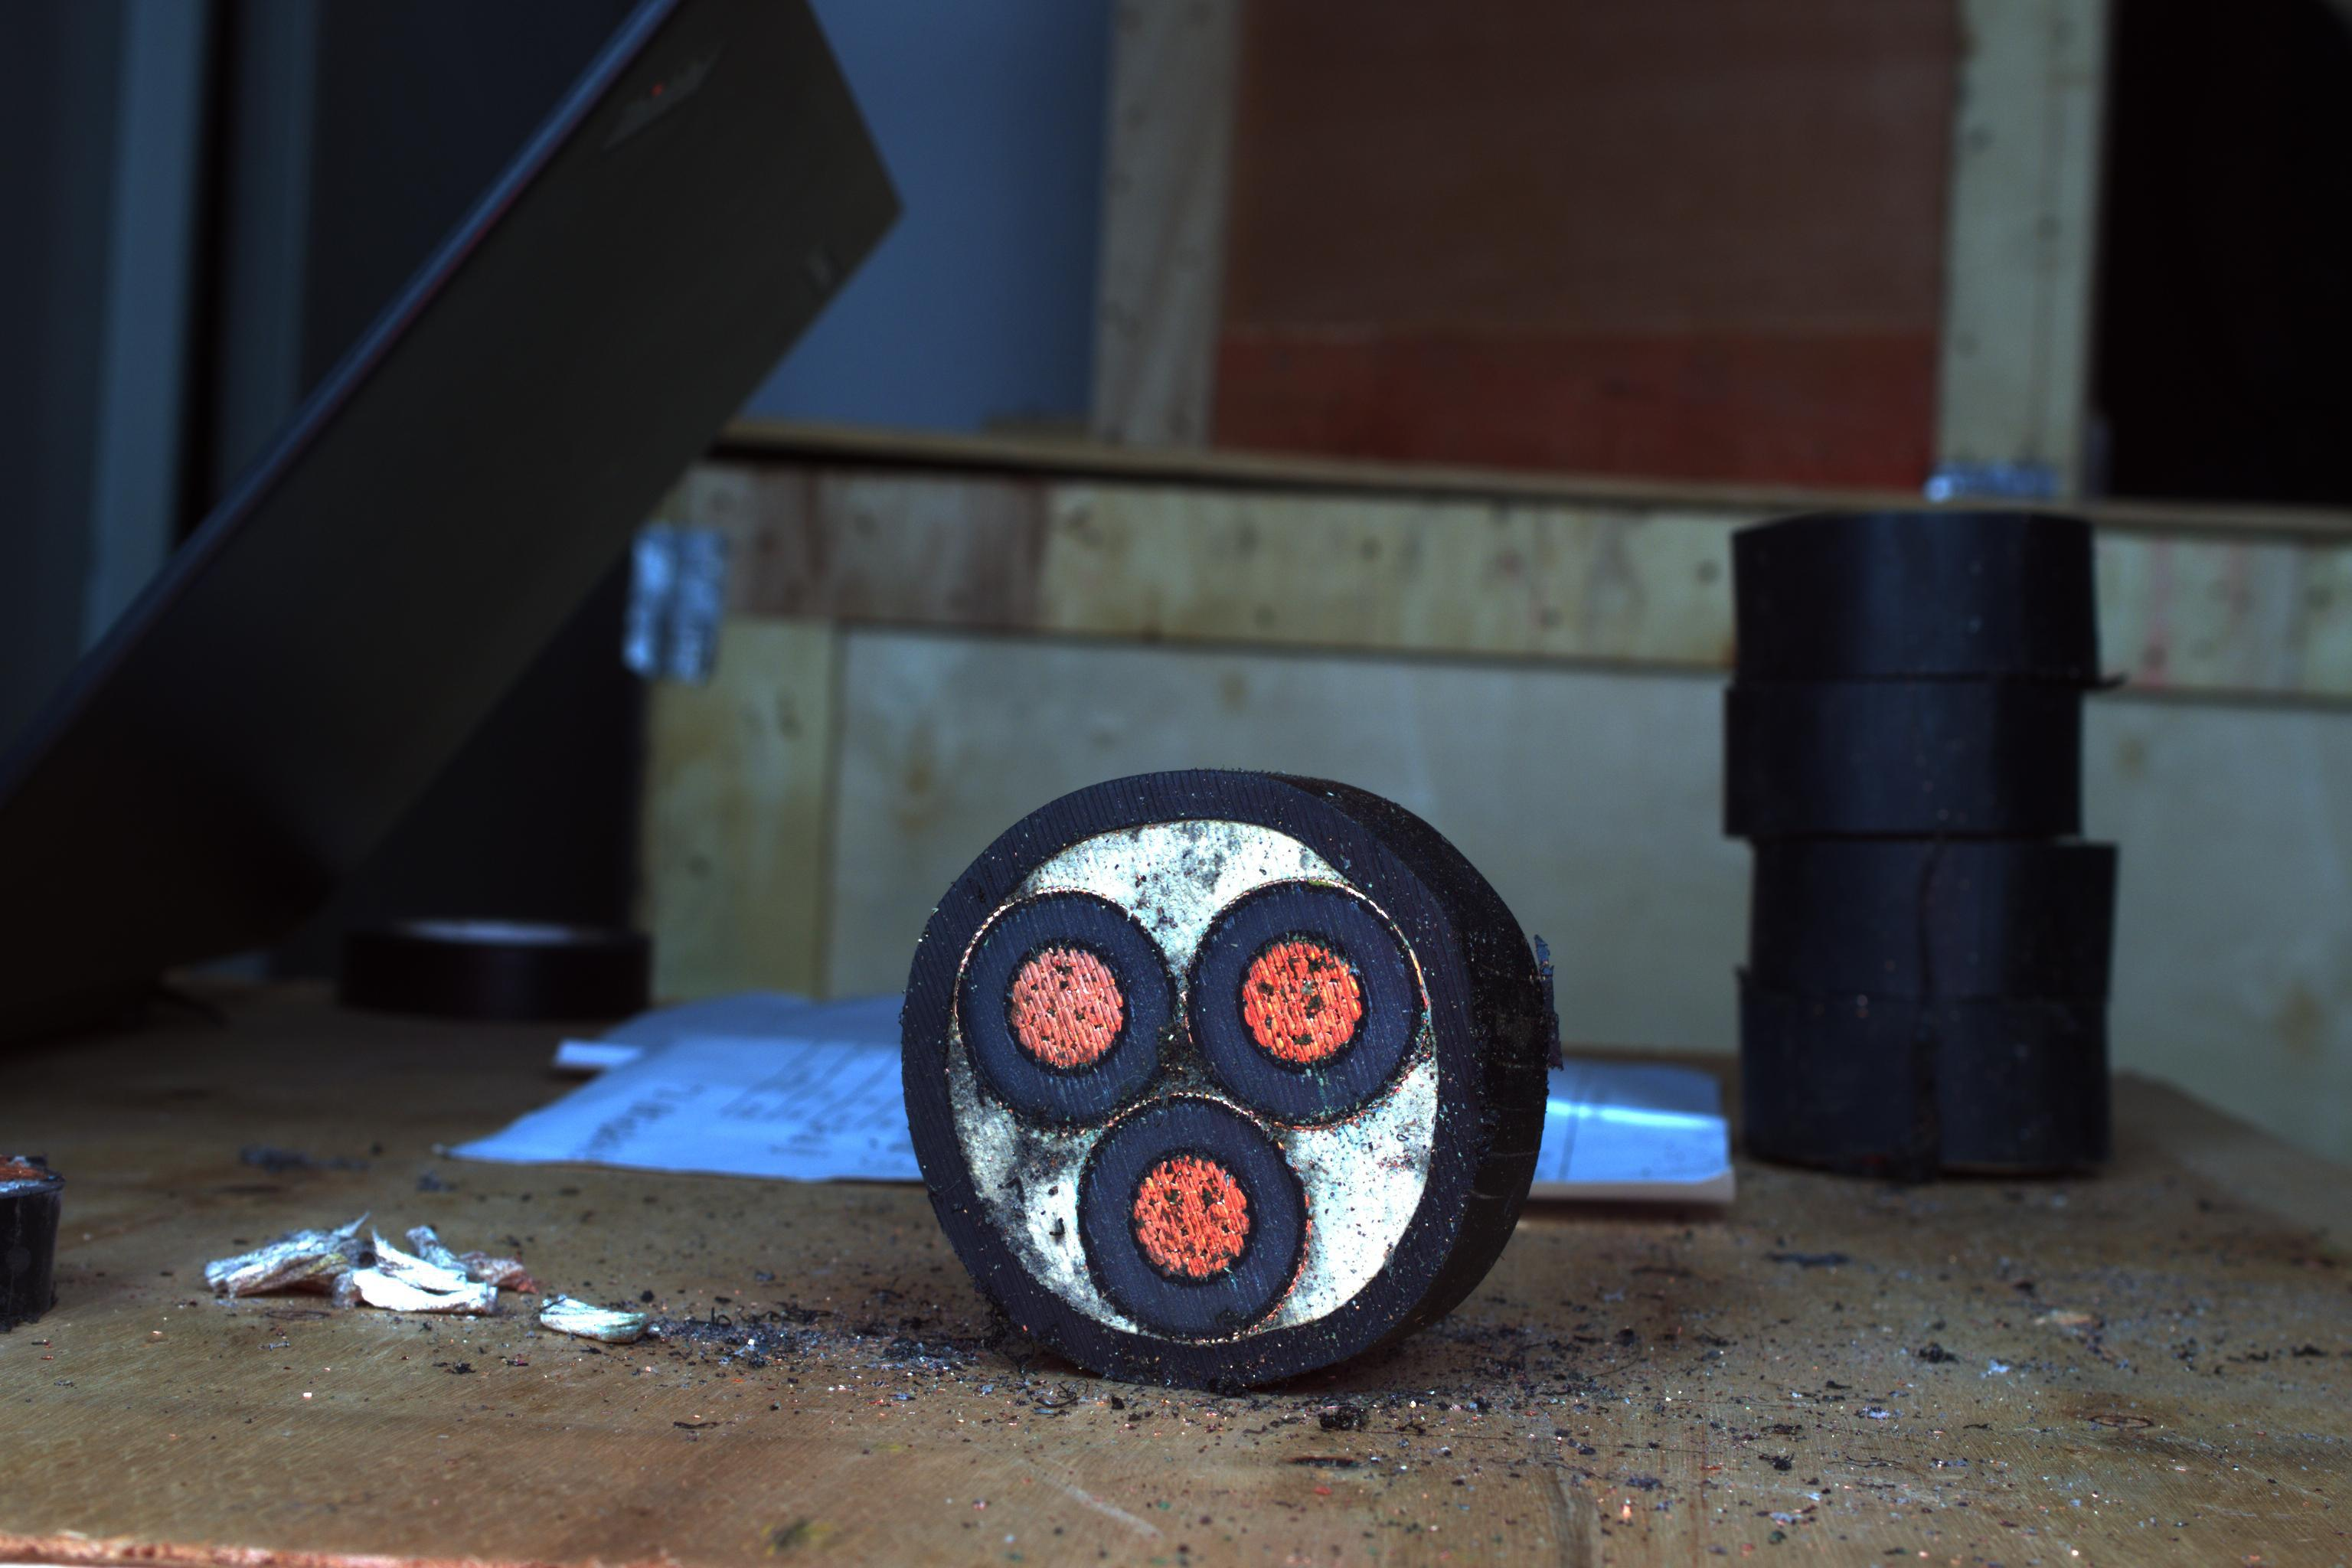ZA_YJV_8.7_10kV_3x120: (891, 765, 1487, 1372)
